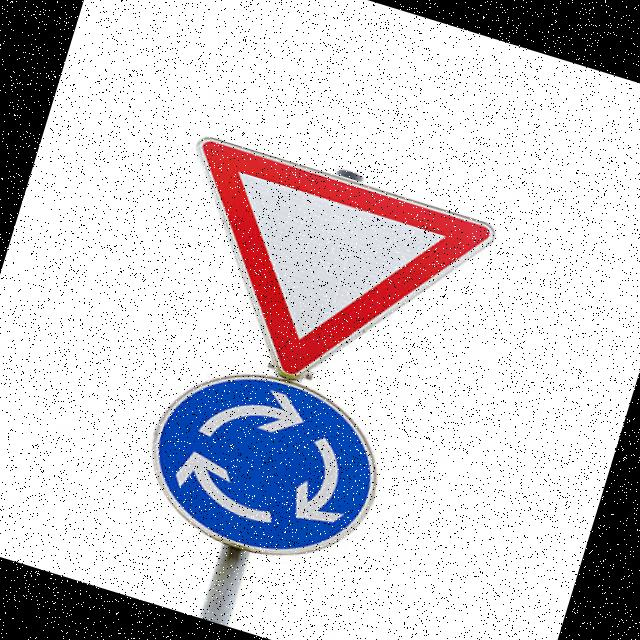round_about: (125, 345, 404, 586)
